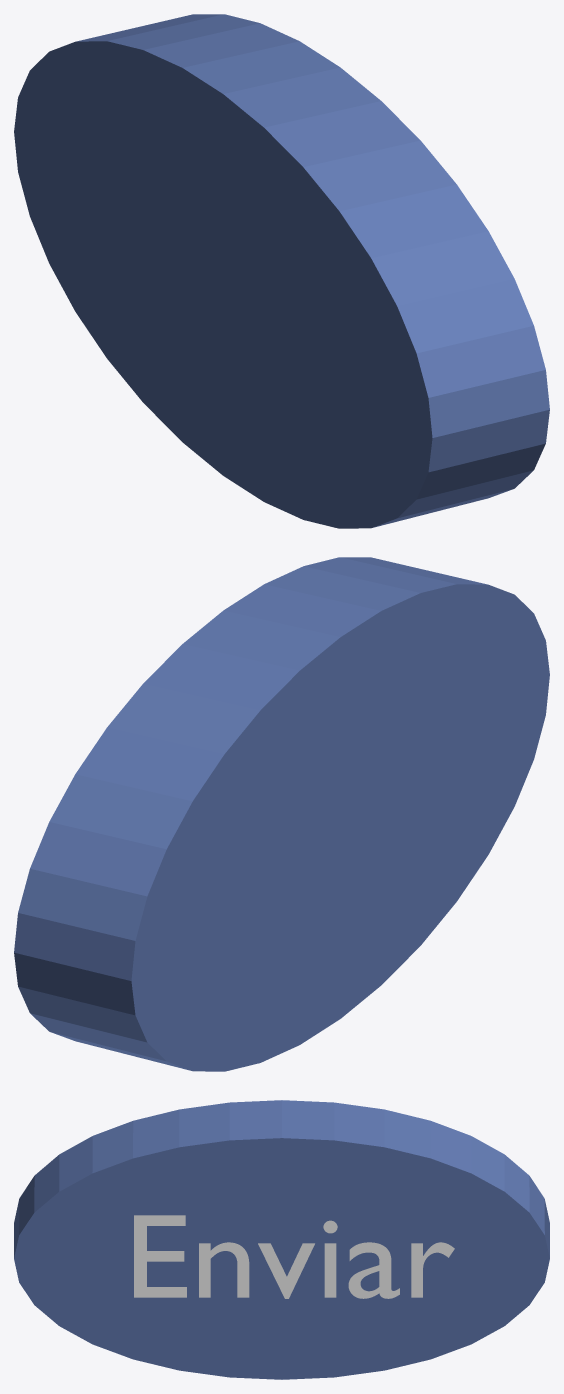
The model's file is enviar.glb.
3 views of the same model, one above another, from view 1: azimuth 30°, elevation 25°; view 2: azimuth 150°, elevation 25°; view 3: azimuth 270°, elevation 25° (orthographic). The views are drawn at different scales.
Visible parts, largest first — view 1: Cilindro; view 2: Cilindro; view 3: Cilindro, Texto.
Part boxes in pixels (x1,y1,x2,y2): Cilindro: (14, 14, 549, 528); Cilindro: (14, 557, 549, 1071); Cilindro: (14, 1100, 549, 1379); Texto: (134, 1215, 454, 1298).
Size of the model in its own units: 0.0397 by 0.1011 by 0.2009.
